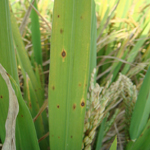Bercak Coklat: (58, 48, 69, 60), (78, 98, 86, 109)
